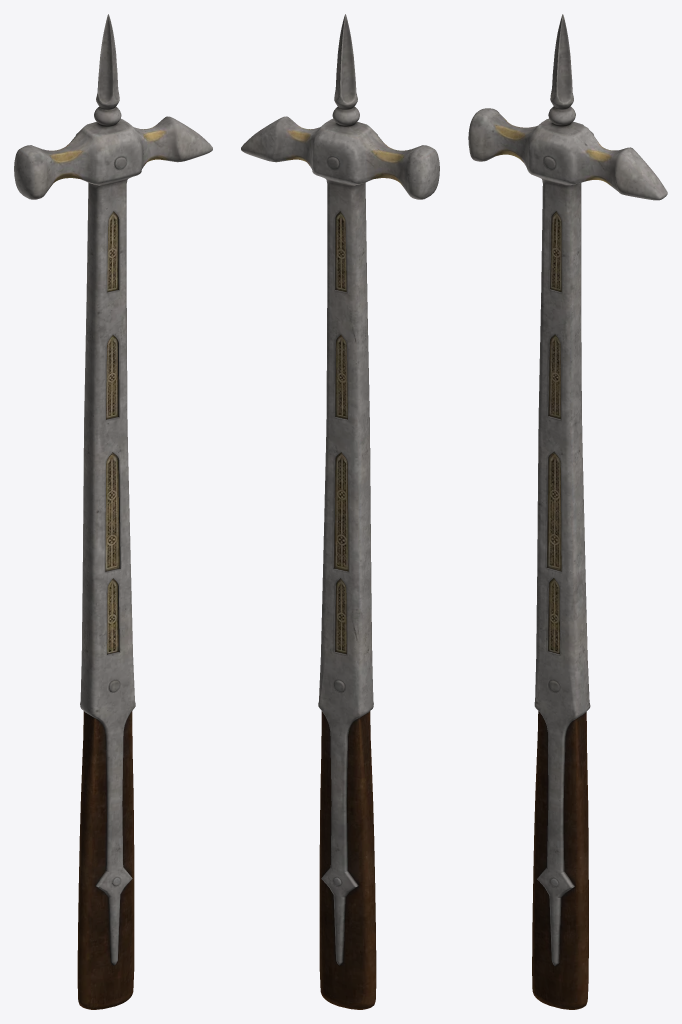
Rendered from ornate_war_hammer.gltf.
3 views of the same model, side by side, from view 1: azimuth 30°, elevation 25°; view 2: azimuth 150°, elevation 25°; view 3: azimuth 330°, elevation 25° (orthographic).
Visible parts, largest first — view 1: ornate_war_hammer; view 2: ornate_war_hammer; view 3: ornate_war_hammer.
Part boxes in pixels (bbox=[...]): ornate_war_hammer: bbox=[14, 14, 212, 1009]; ornate_war_hammer: bbox=[241, 14, 439, 1009]; ornate_war_hammer: bbox=[468, 14, 667, 1009].
Bounding box in the file's own units: 0.1441 × 0.7112 × 0.0348.
Materials: 1 (1 with a texture image).
